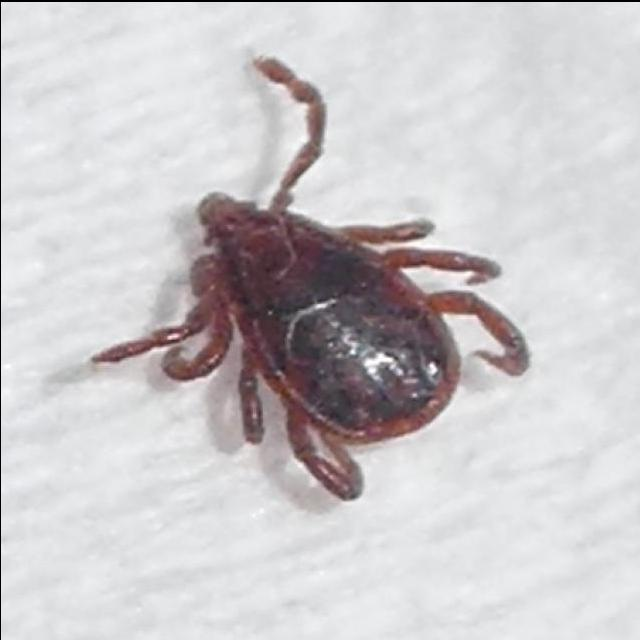Rhipicephalus Sanguineus-M: (91, 58, 531, 501)
